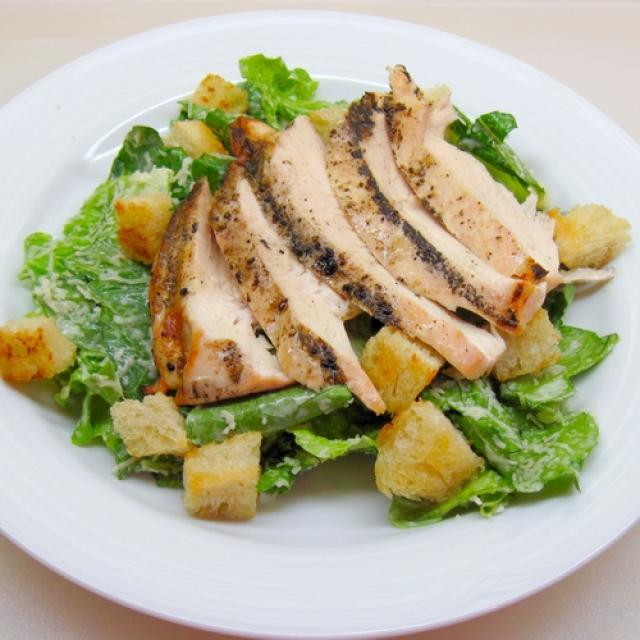蔬菜料理: (1, 10, 638, 636)
